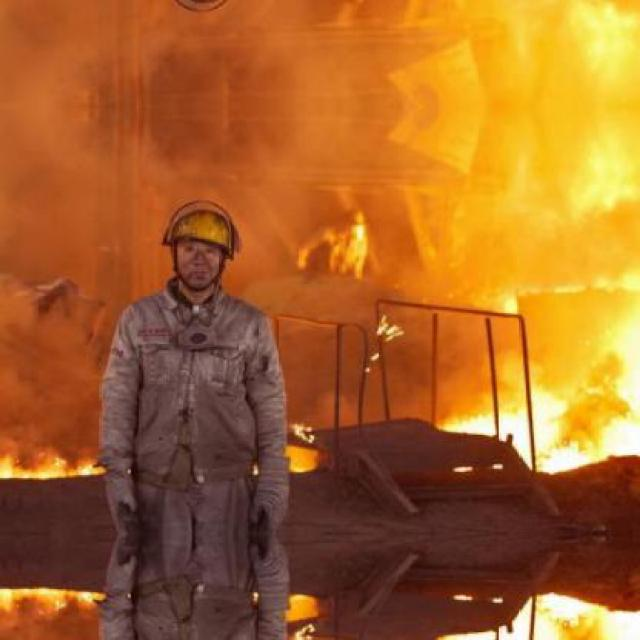safetyhelmet: (160, 200, 242, 280)
